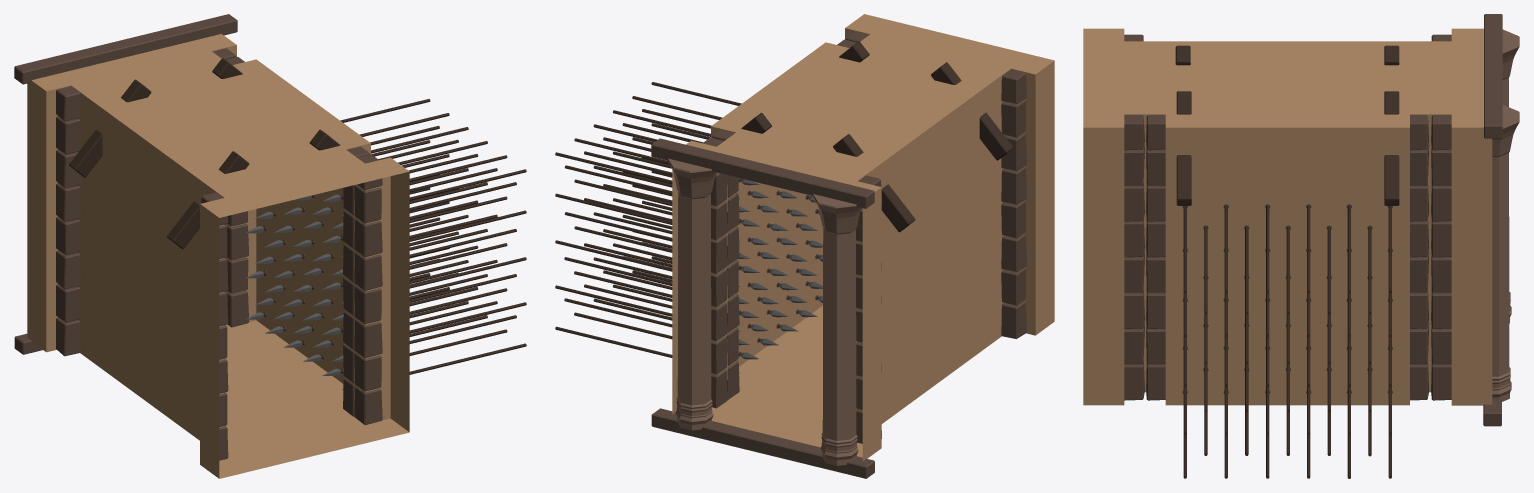
The model's file is Tunnel_Spawn_wandgeschlossen.fbx.
3 renders of one model, left to right at view 1: azimuth 30°, elevation 25°; view 2: azimuth 150°, elevation 25°; view 3: azimuth 270°, elevation 25°, orthographic. The views are drawn at different scales.
Visible parts, largest first — view 1: Tunnel_Spawn, Speere_normal, Speere_Podest; view 2: Tunnel_Spawn, Speere_normal, Speere_Podest; view 3: Tunnel_Spawn, Speere_normal, Speere_Podest.
Boxes of the visible parts, left/top/right/bottom form: Tunnel_Spawn: left=14, top=14, right=409, bottom=478; Speere_normal: left=245, top=99, right=526, bottom=389; Speere_Podest: left=255, top=217, right=449, bottom=333; Tunnel_Spawn: left=651, top=14, right=1054, bottom=478; Speere_normal: left=555, top=82, right=822, bottom=373; Speere_Podest: left=564, top=257, right=759, bottom=359; Tunnel_Spawn: left=1083, top=14, right=1519, bottom=426; Speere_normal: left=1183, top=205, right=1391, bottom=478; Speere_Podest: left=1347, top=363, right=1371, bottom=478.
Bounding box in the file's own units: 437 × 330 × 427.
